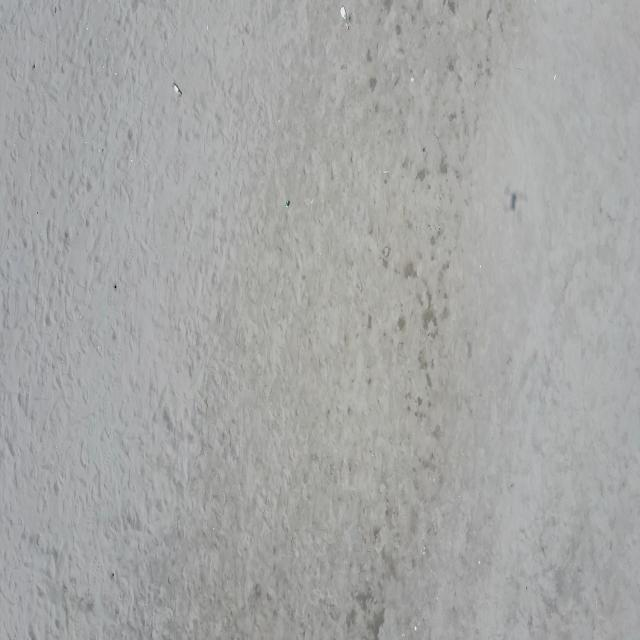glass: (340, 6, 349, 30), (172, 82, 183, 96), (286, 200, 289, 208)
